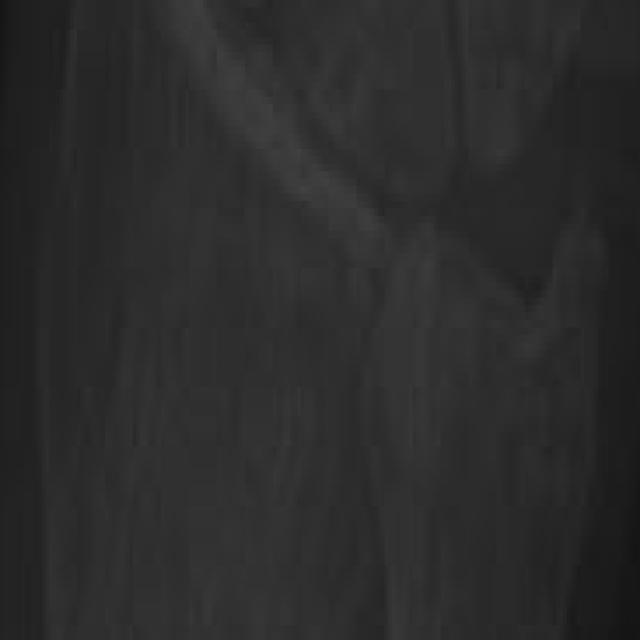fracture: (2, 4, 640, 640)
